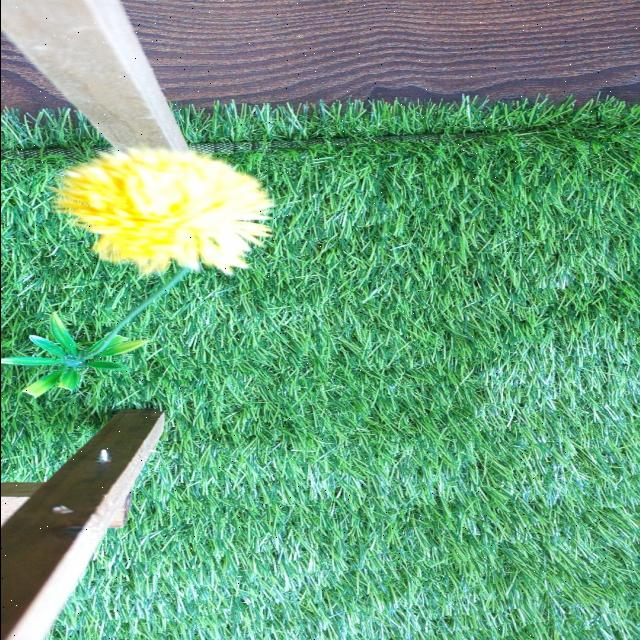base: (0, 312, 148, 396)
flower: (46, 148, 274, 274)
